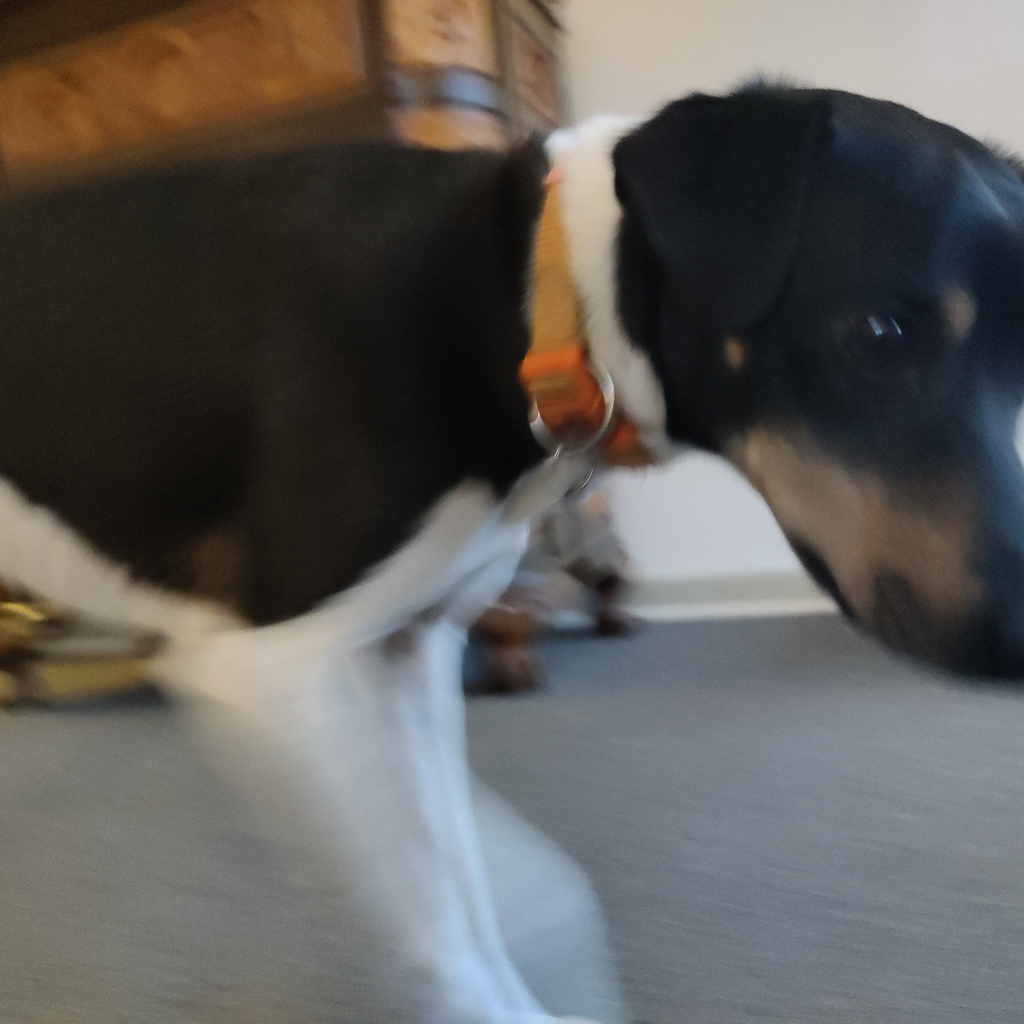Dog: (0, 58, 1024, 1024)
